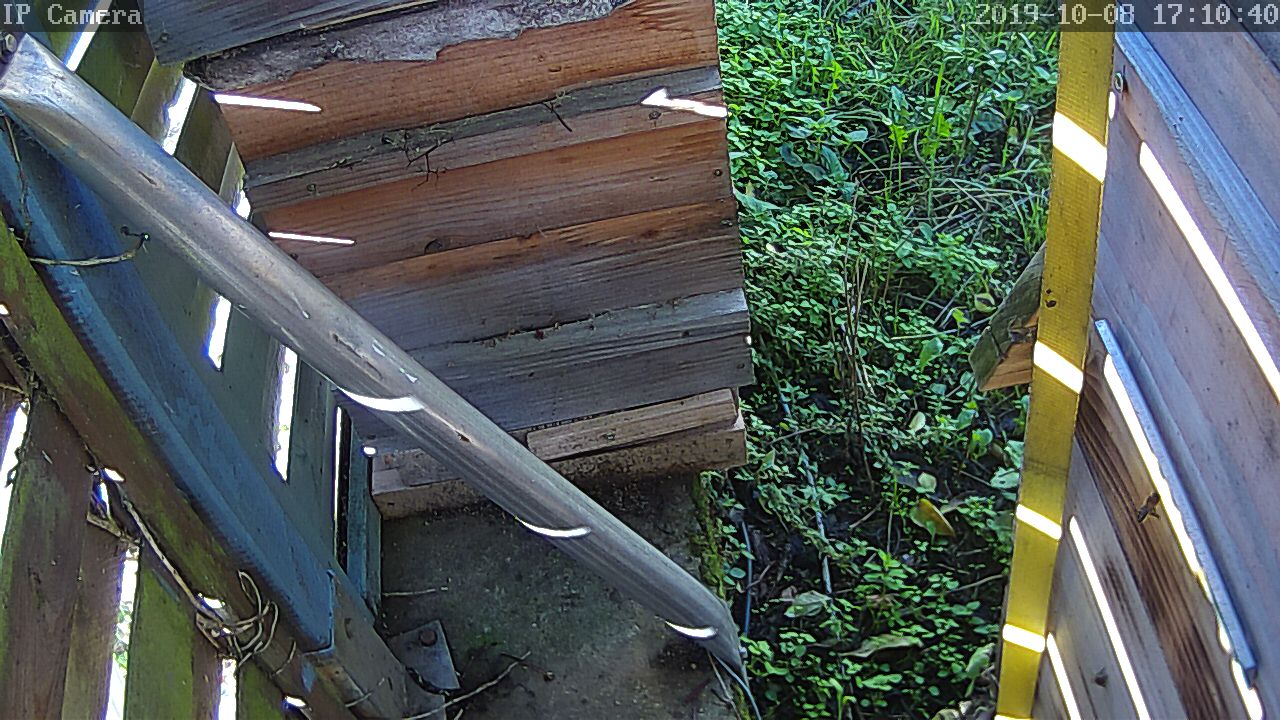bee: (1133, 486, 1164, 521)
